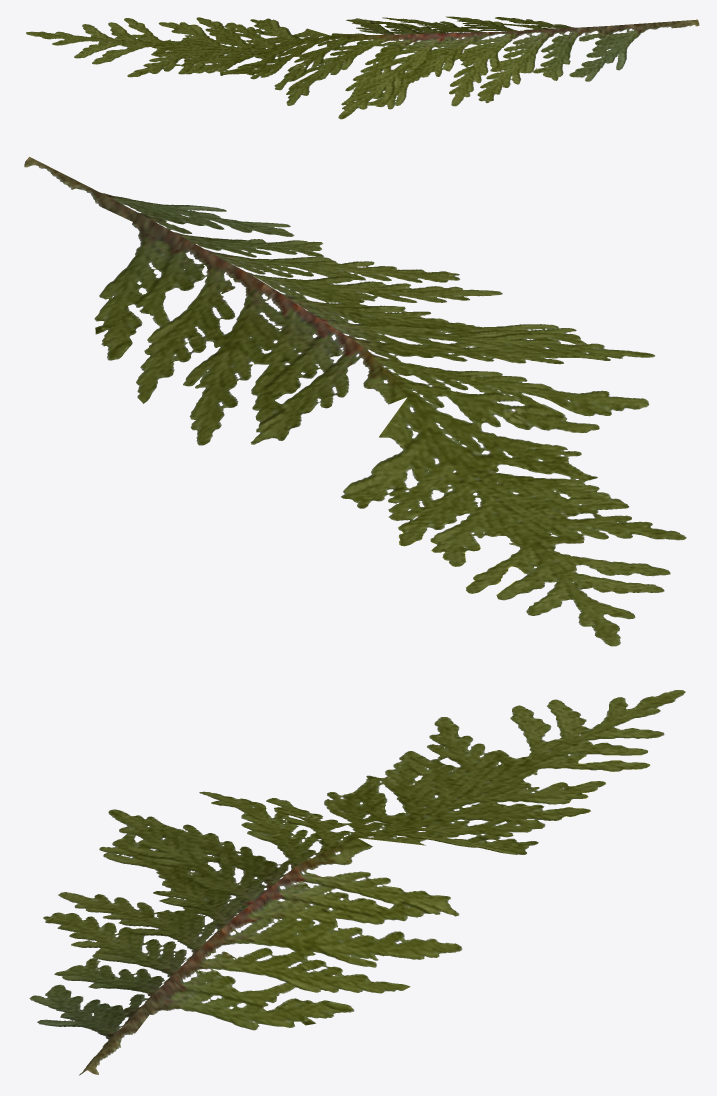
The model's file is PNW Plant_Sword Fern_Small_512.glb.
3 renders of one model, top to bottom at view 1: azimuth 30°, elevation 25°; view 2: azimuth 150°, elevation 25°; view 3: azimuth 270°, elevation 25°, orthographic. The views are drawn at different scales.
Parts seen in each view (by area): view 1: Plant_Tree_Branch_512; view 2: Plant_Tree_Branch_512; view 3: Plant_Tree_Branch_512.
Part boxes in pixels (x1,y1,x2,y2): Plant_Tree_Branch_512: (26, 16, 699, 119); Plant_Tree_Branch_512: (24, 157, 686, 646); Plant_Tree_Branch_512: (29, 690, 685, 1075).
Bounding box in the file's own units: 0.4624 × 0.0267 × 0.3181.
Materials: 1 (1 with a texture image).
